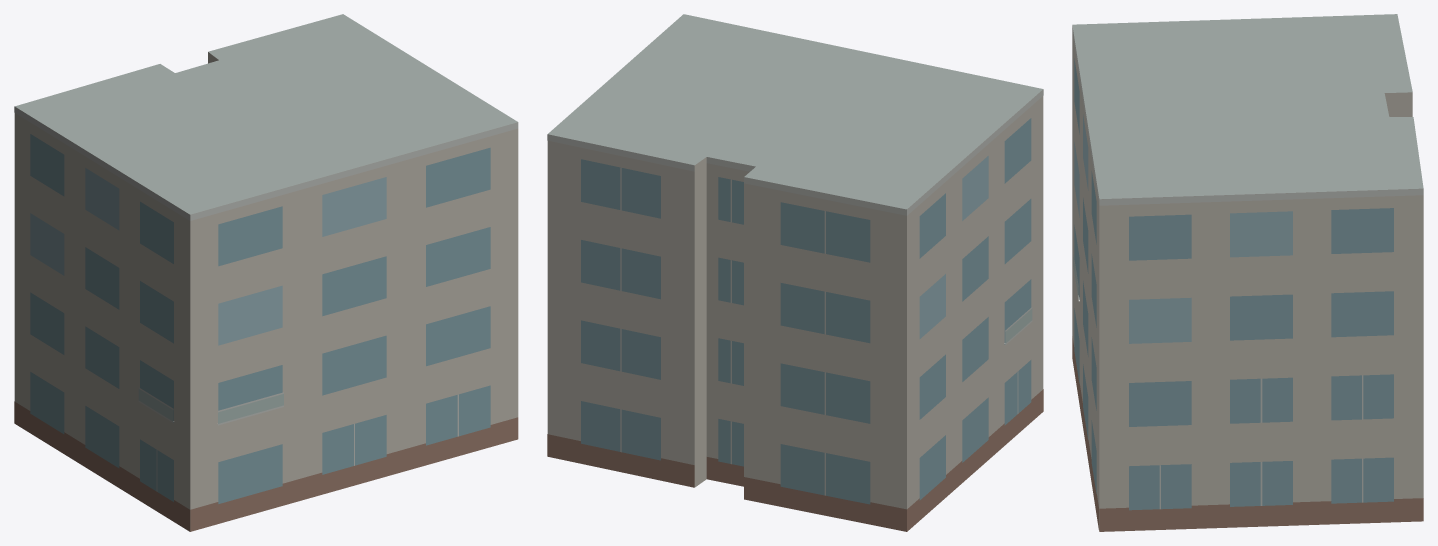
File: survey-upis-32702362.glb
The picture shows the model from 3 angles, left to right: view 1: azimuth 30°, elevation 25°; view 2: azimuth 150°, elevation 25°; view 3: azimuth 270°, elevation 25°; orthographic projection. The views are drawn at different scales.
Visible parts, largest first — view 1: survey-upis-32702362.tmp; view 2: survey-upis-32702362.tmp; view 3: survey-upis-32702362.tmp.
Boxes of the visible parts, bbox=[...] form: survey-upis-32702362.tmp: bbox=[14, 14, 518, 531]; survey-upis-32702362.tmp: bbox=[547, 14, 1043, 531]; survey-upis-32702362.tmp: bbox=[1072, 14, 1423, 531].
Size of the model in its own units: 14.69 by 12.3 by 11.78.
